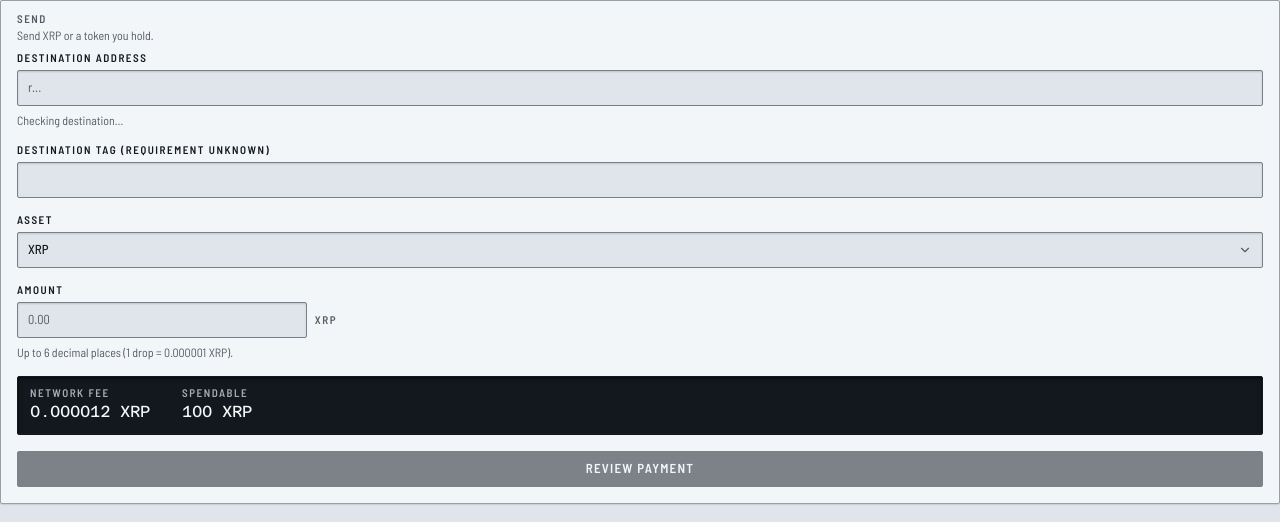
Test case: SendTab — only a fresh successful check for this input permits a send › enables the send once the same form has a destination check that succeeded
The width and height of the screenshot is (1280, 522).
Step 1. Type "rHb9CJAWyB4rj91VRWn96DkukG4bwdtyTh" into the field labelled "Destination address" → (640, 88), box [17,70,1263,106]
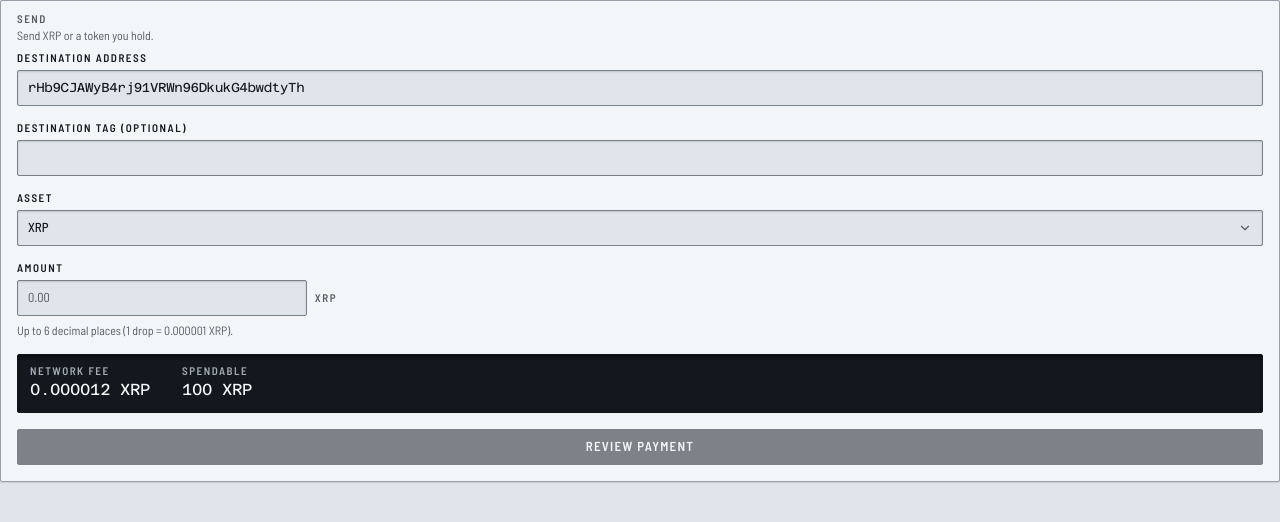
Step 2. Type "1" into the field labelled "Amount" → (162, 298), box [17,280,307,316]
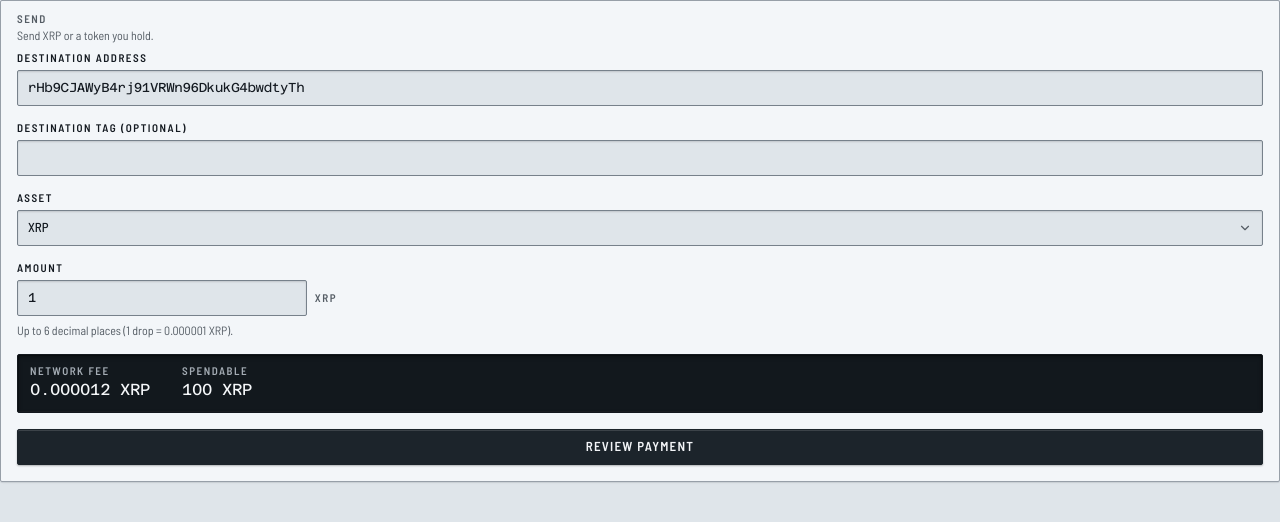
Expected: the button "Review payment" is enabled, [17,429,1263,465]
